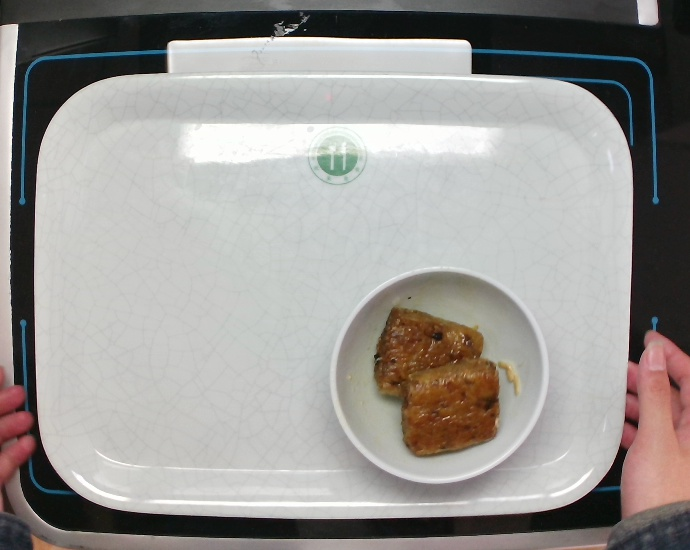JYsf-Fan_Wan: (320, 264, 554, 497)
